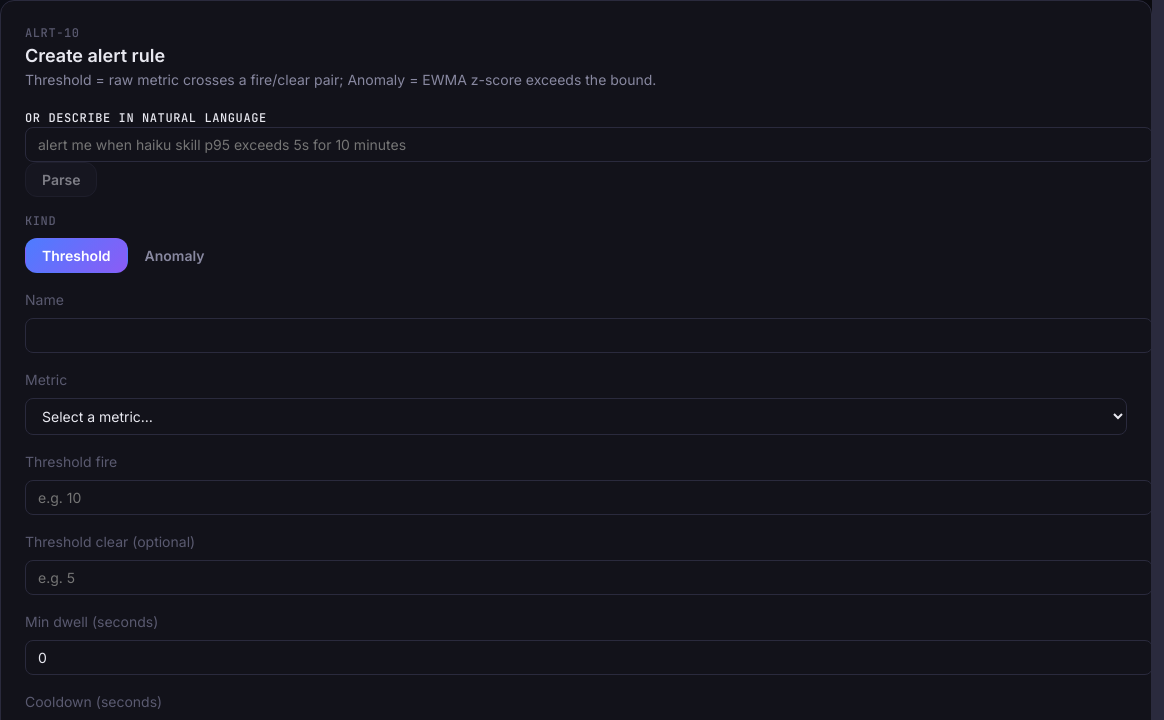
Test: AlertRuleForm — NL authoring (ALRT-14) › NL parse failure renders inline could-not-parse message; does NOT auto-save
This screenshot has width=1164, height=720.
Type "asdf qwerty nonsense prompt" into the field labelled "Or describe in natural language" at x=588, y=144, box [25,127,1152,162]
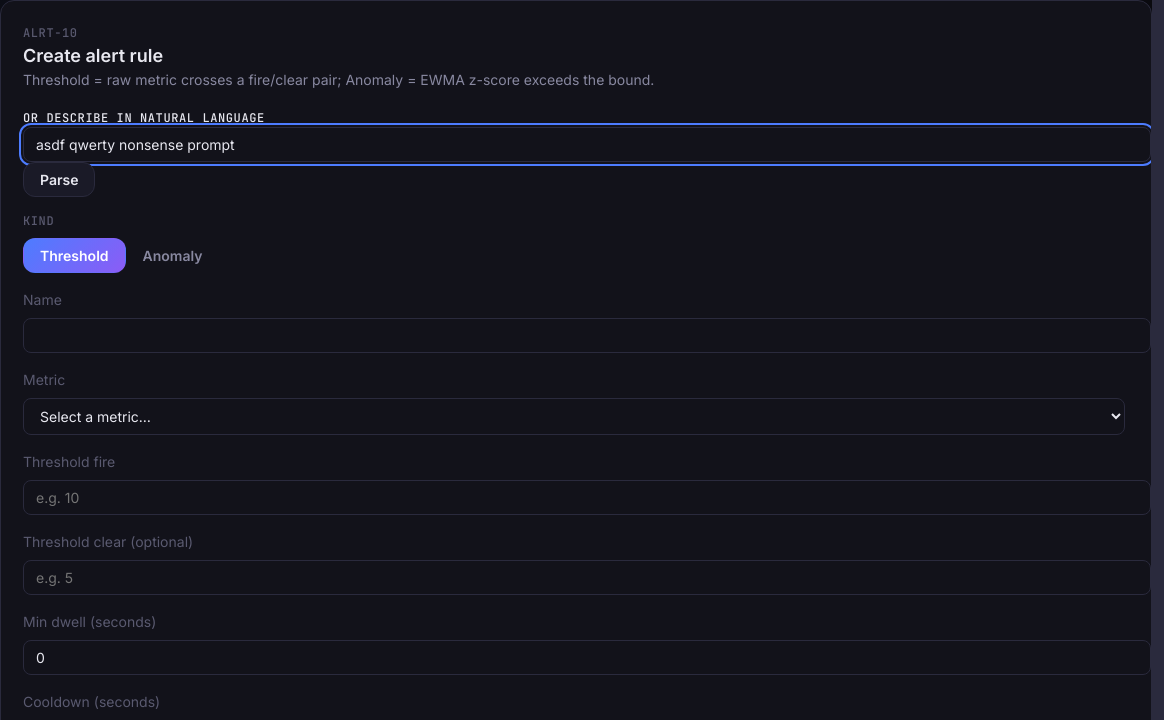
Click the button "Parse" at x=59, y=179, box [23,162,96,197]
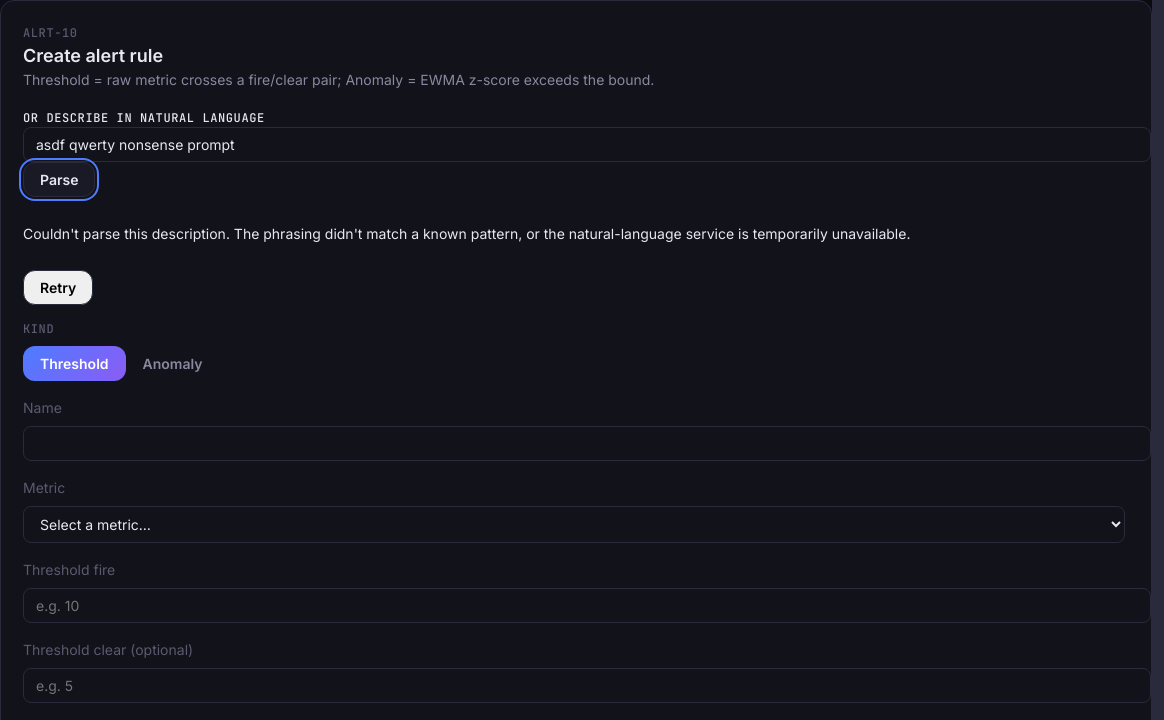
Now the message shows "Couldn.t parse this description", box [23,225,910,242]
